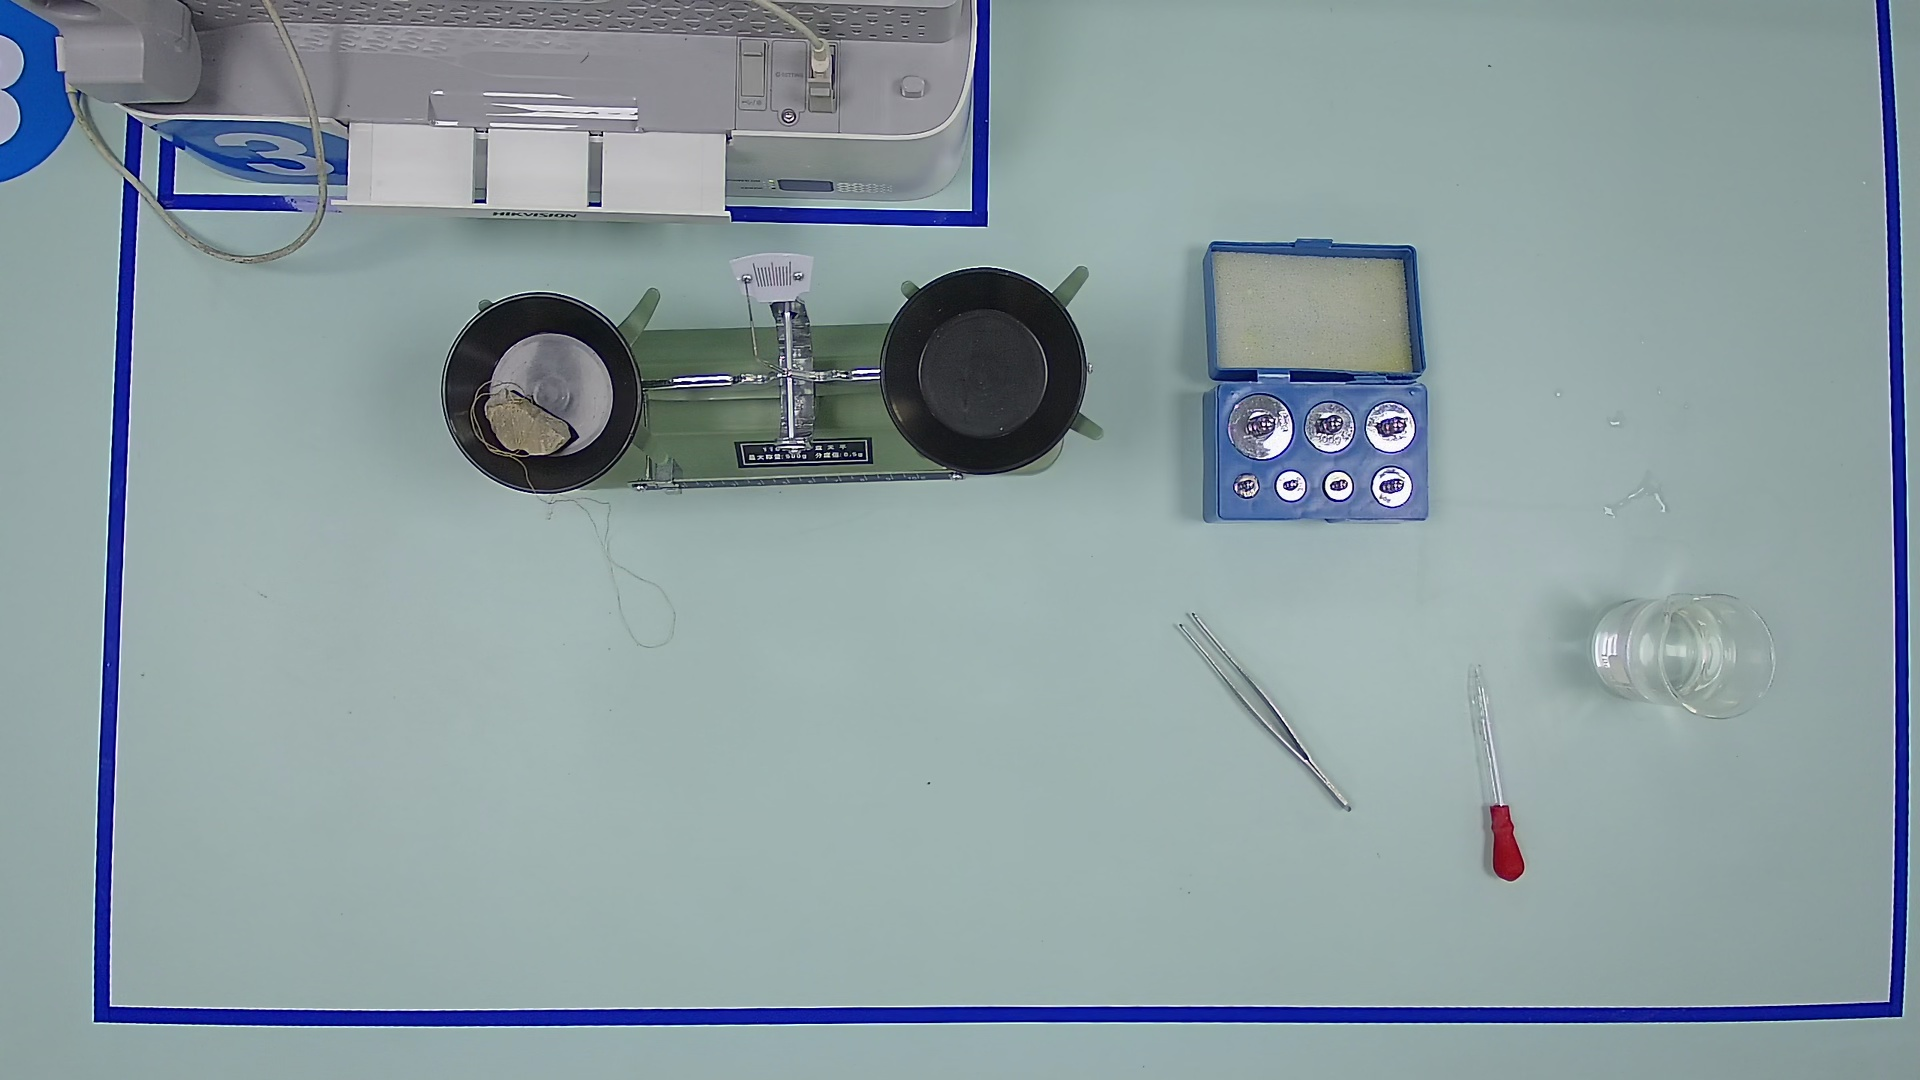bei: (1596, 576, 1784, 729)
diguan: (1437, 649, 1542, 894)
diguantou: (1476, 794, 1538, 887)
fama: (1222, 389, 1294, 462), (1303, 398, 1358, 454), (1365, 401, 1418, 455), (1367, 464, 1415, 509), (1320, 465, 1356, 502), (1273, 467, 1308, 502), (1232, 469, 1261, 500)
gan: (624, 447, 955, 514)
he: (1170, 327, 1458, 541)
niezi: (1170, 596, 1373, 839)
pointer: (735, 249, 814, 301)
shi: (480, 375, 579, 463)
tuo: (858, 243, 1114, 505), (419, 272, 665, 521)
you: (651, 454, 684, 500)
